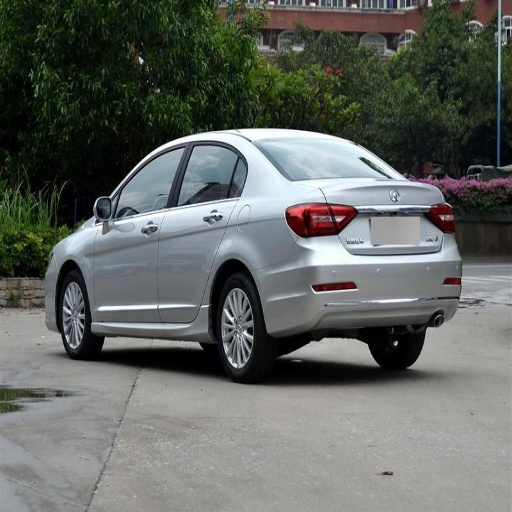back_bumper: (258, 236, 462, 336)
back_glass: (256, 133, 394, 180)
back_left_door: (159, 142, 242, 324)
